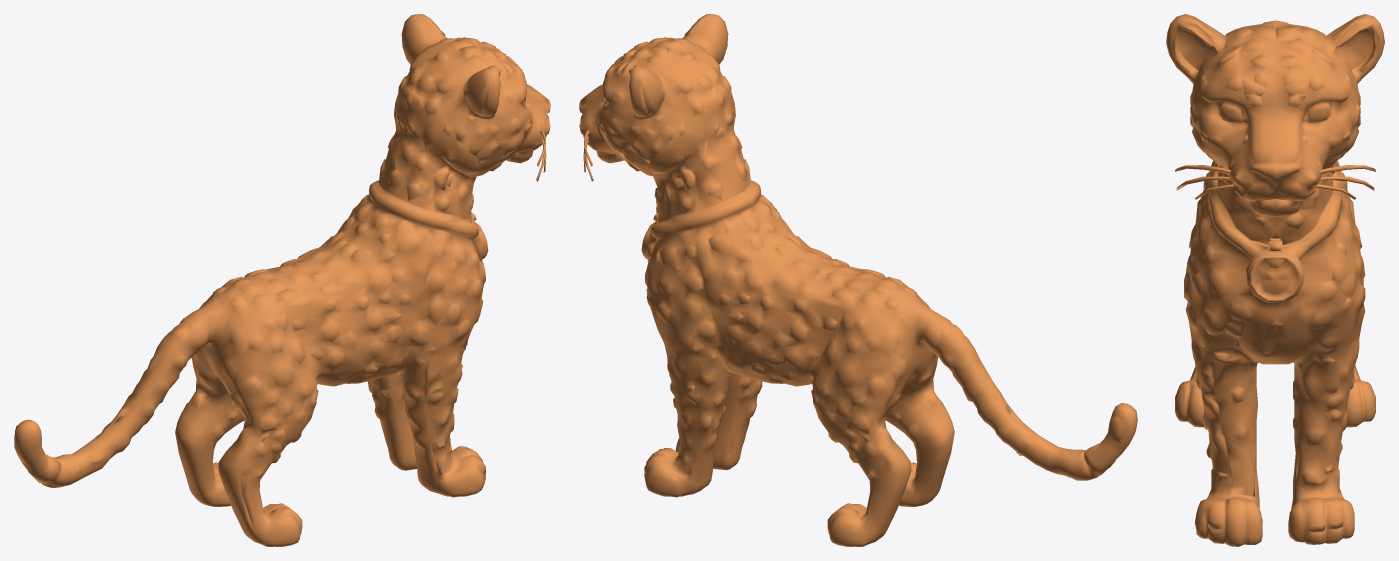
File: leopard-flat.glb
3 renders of one model, left to right at view 1: azimuth 30°, elevation 25°; view 2: azimuth 150°, elevation 25°; view 3: azimuth 270°, elevation 25°, orthographic. The views are drawn at different scales.
Parts seen in each view (by area): view 1: tripo_node_2200f453-a785-4056-925a-4f9ae360e98f; view 2: tripo_node_2200f453-a785-4056-925a-4f9ae360e98f; view 3: tripo_node_2200f453-a785-4056-925a-4f9ae360e98f.
Part boxes in pixels (x1,y1,x2,y2): tripo_node_2200f453-a785-4056-925a-4f9ae360e98f: (14, 14, 550, 546); tripo_node_2200f453-a785-4056-925a-4f9ae360e98f: (579, 14, 1137, 546); tripo_node_2200f453-a785-4056-925a-4f9ae360e98f: (1166, 14, 1384, 546).
Size of the model in its own units: 0.3982 by 0.3 by 0.113.
